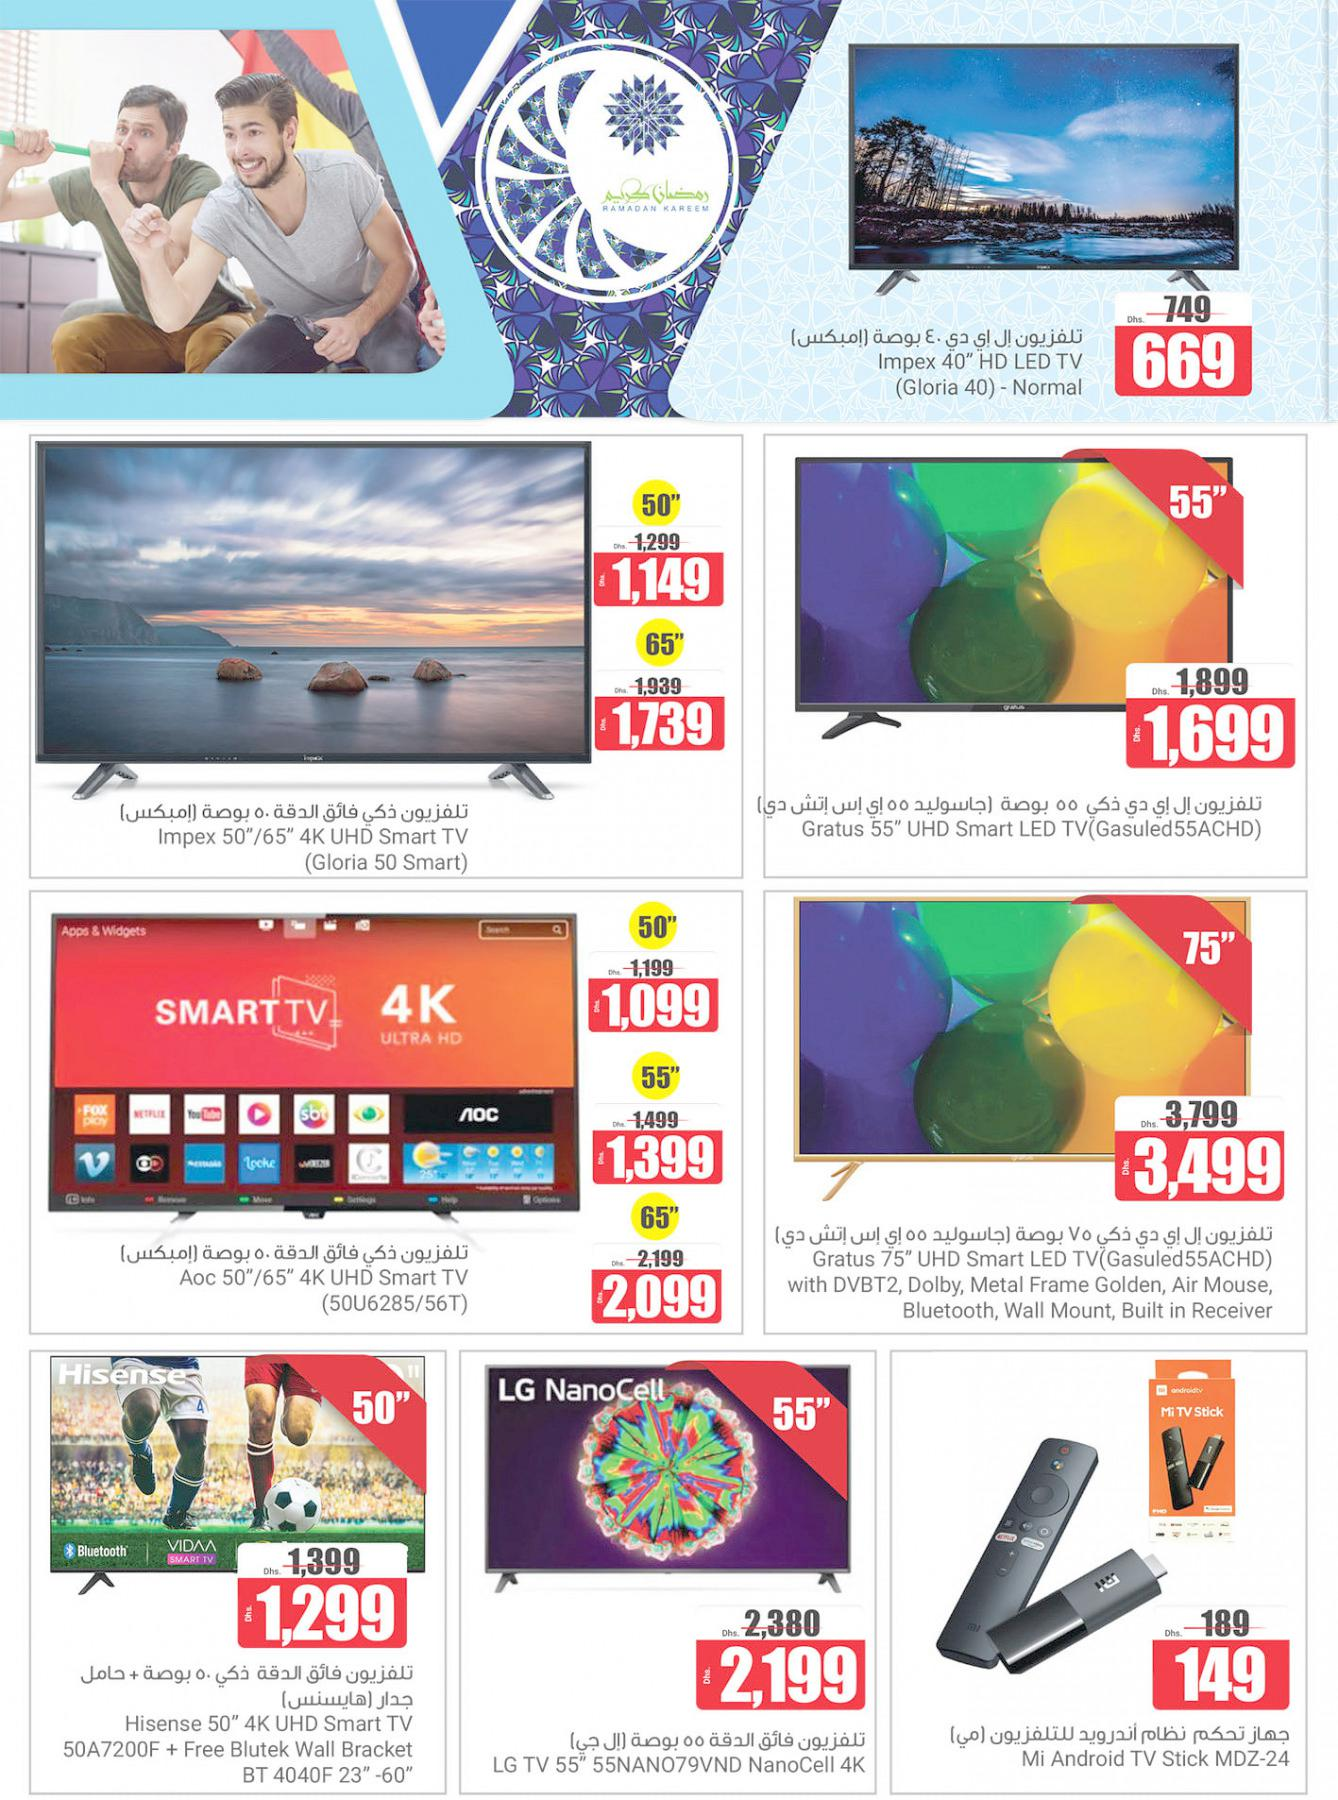text: (777, 1245, 1287, 1325), (45, 1709, 434, 1792), (59, 1657, 431, 1711), (143, 821, 486, 875), (751, 787, 1271, 821), (166, 1265, 485, 1319), (795, 815, 1271, 849), (765, 1221, 1282, 1251), (857, 350, 1098, 402), (91, 1237, 476, 1269), (923, 1719, 1296, 1751), (485, 1749, 867, 1780), (774, 318, 1093, 353), (101, 798, 481, 826), (550, 1726, 871, 1758), (998, 1744, 1296, 1776)
